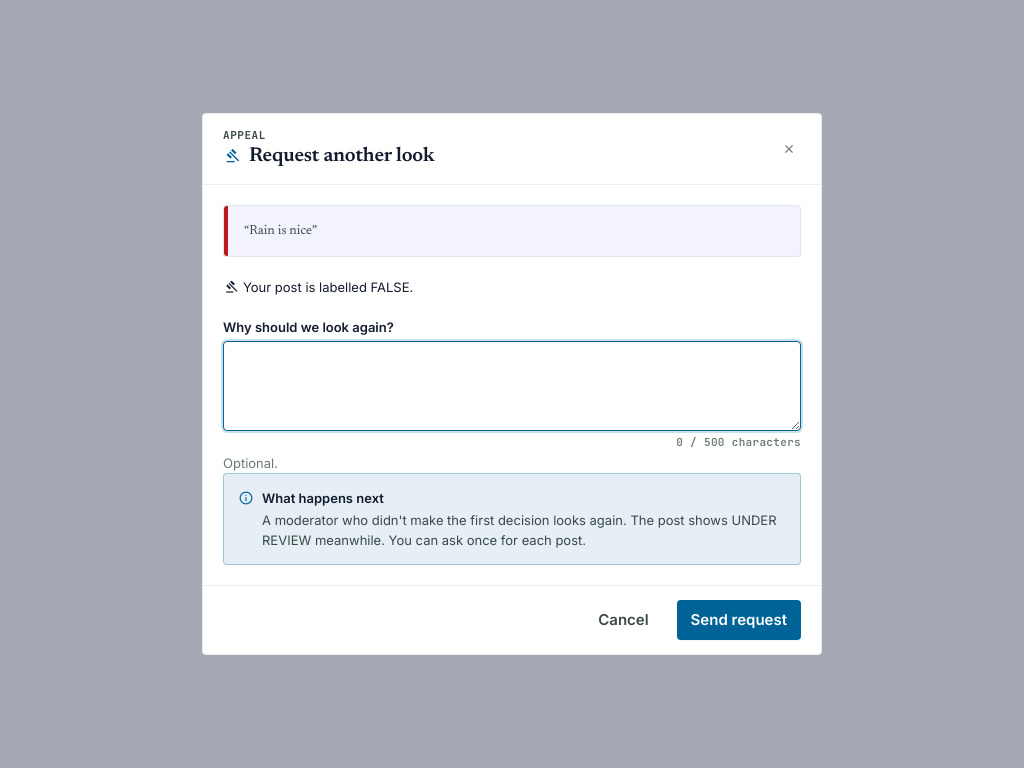
Test: AppealModal › when the server says no › shows a message for a signed-out session and keeps the words
This screenshot has width=1024, height=768.
In the text box labelled "Why should we look again?": (512, 386) [223,341,801,431], type "words kept"
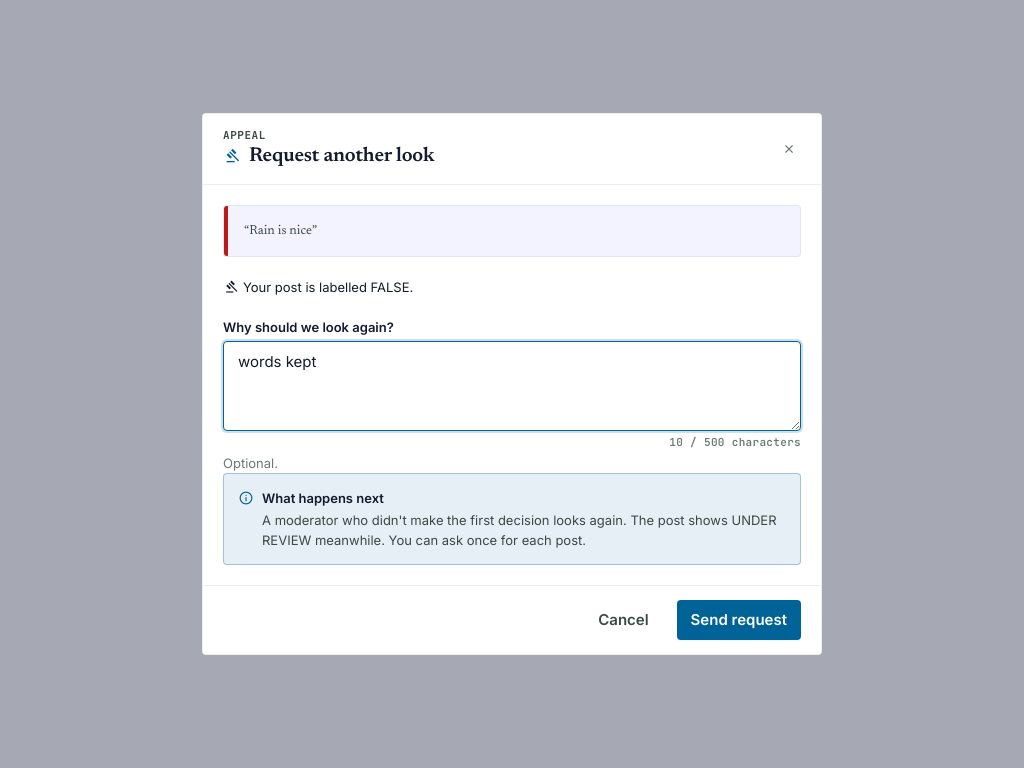
Click the button "Send request": (739, 620) [677,600,801,640]
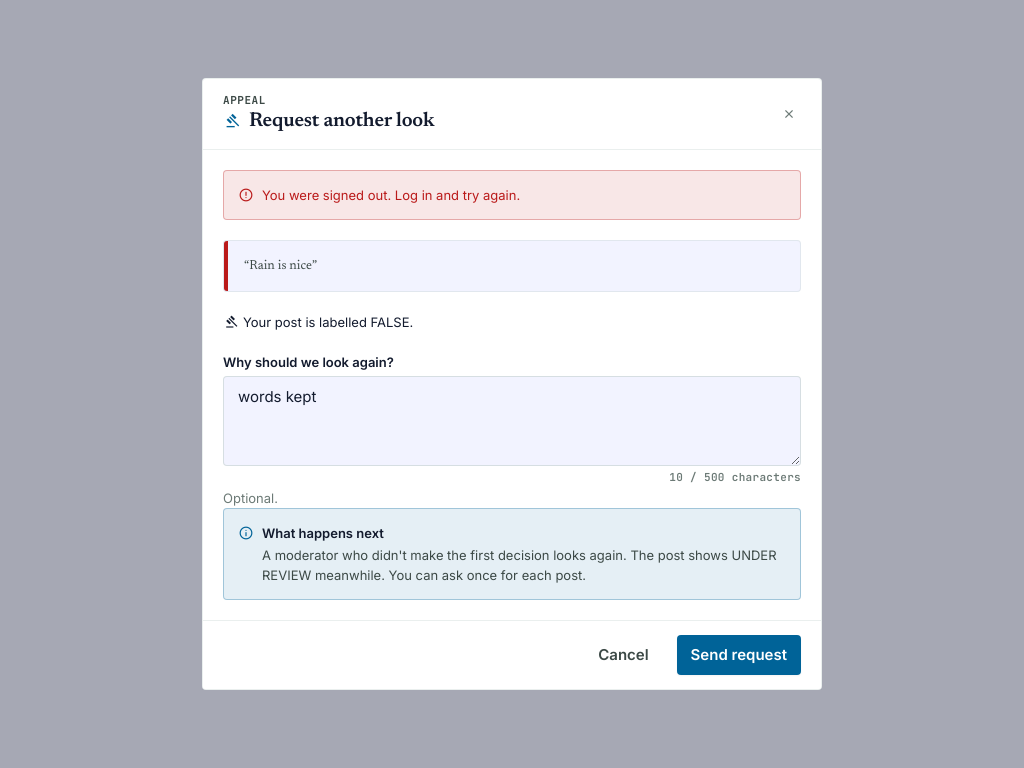
Expected: the text "You were signed out. Log in and try again." is shown, [262,187,520,203]
